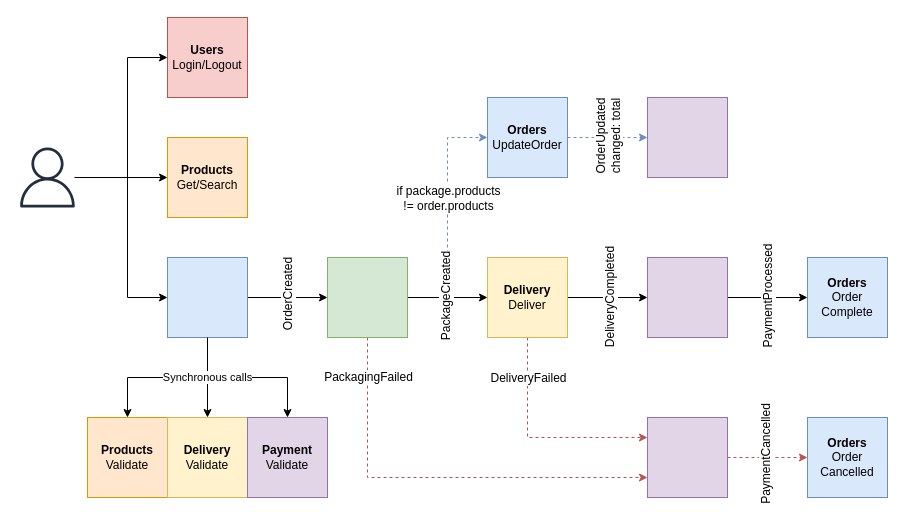
This 905x523 diagram has some shape labels left out. Each missing label, with the box of its shape:
Orders CreateOrder: (166, 256, 248, 338)
Payment Cancel Payment: (646, 416, 728, 498)
Payment Process Payment: (646, 256, 728, 338)
Payment Update Payment: (646, 96, 728, 178)
Warehouse Package: (326, 256, 408, 338)
